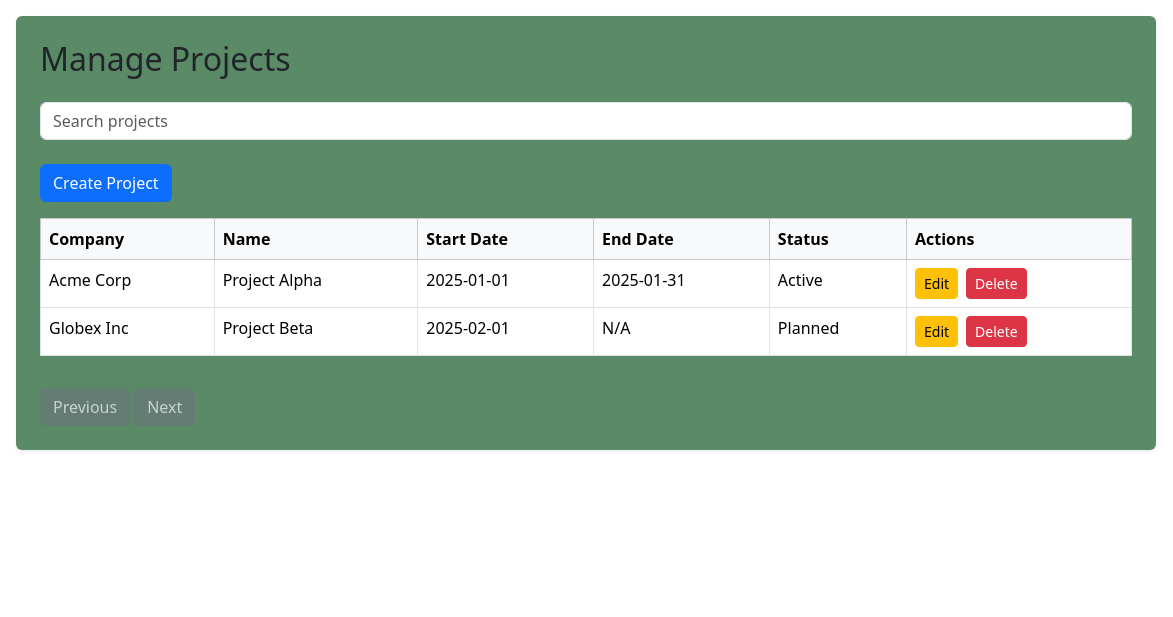
Scenario: ManageProjects Page › opens form prefilled when Edit clicked
Expected: the text "Project Alpha" is shown, x1=214 y1=260 x2=418 y2=308
Click the button "Edit" in the row of "Acme Corp" at (937, 284), box x1=915 y1=268 x2=958 y2=299
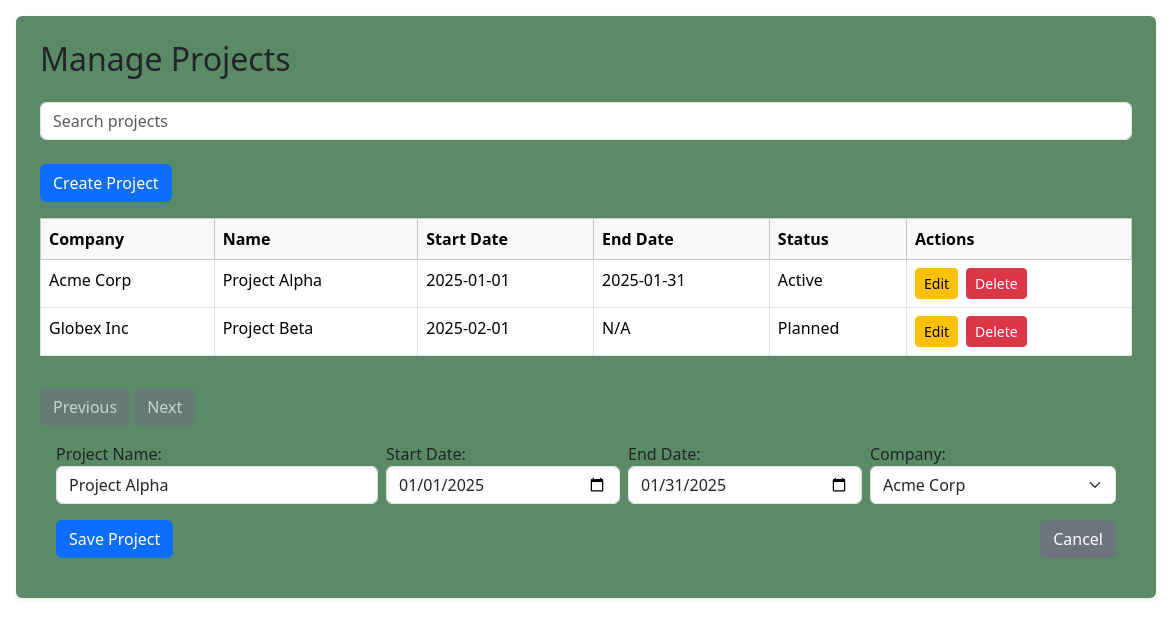
Now the field labelled "Project Name:" holds "Project Alpha", box x1=56 y1=466 x2=378 y2=504
